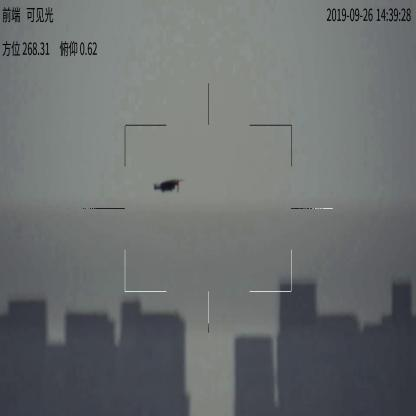uav: (150, 177, 185, 199)
